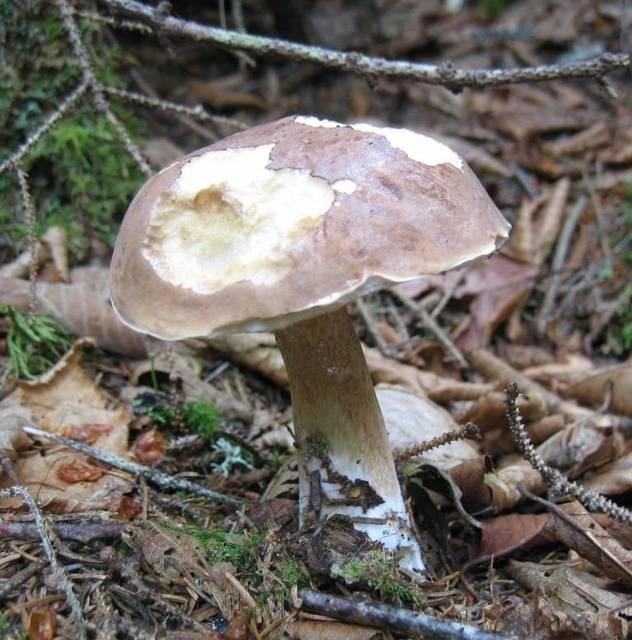Non-edible Mushroom: (106, 112, 513, 583)
